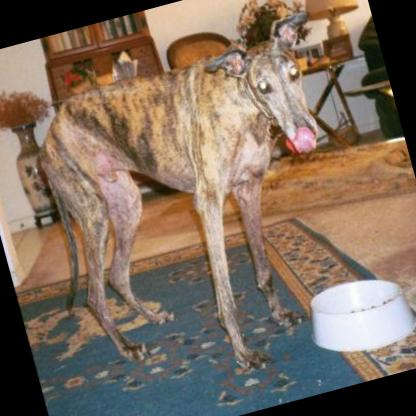Great_Dane: (13, 6, 398, 410)
